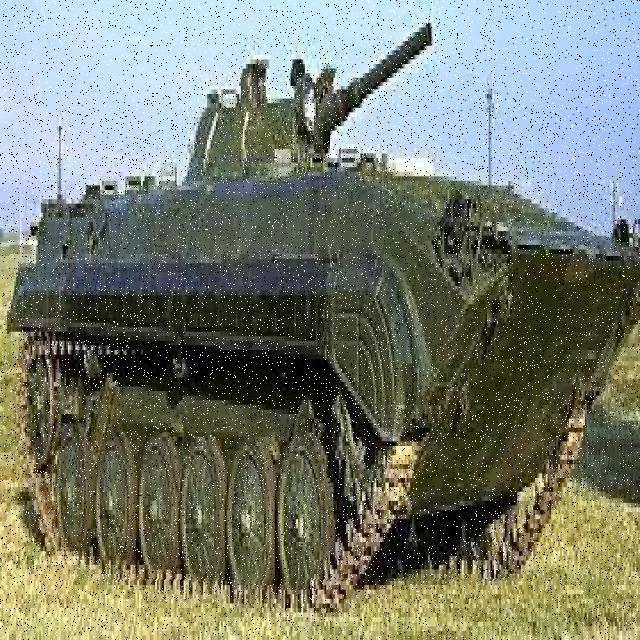MIL_MBT: (10, 86, 606, 579)
